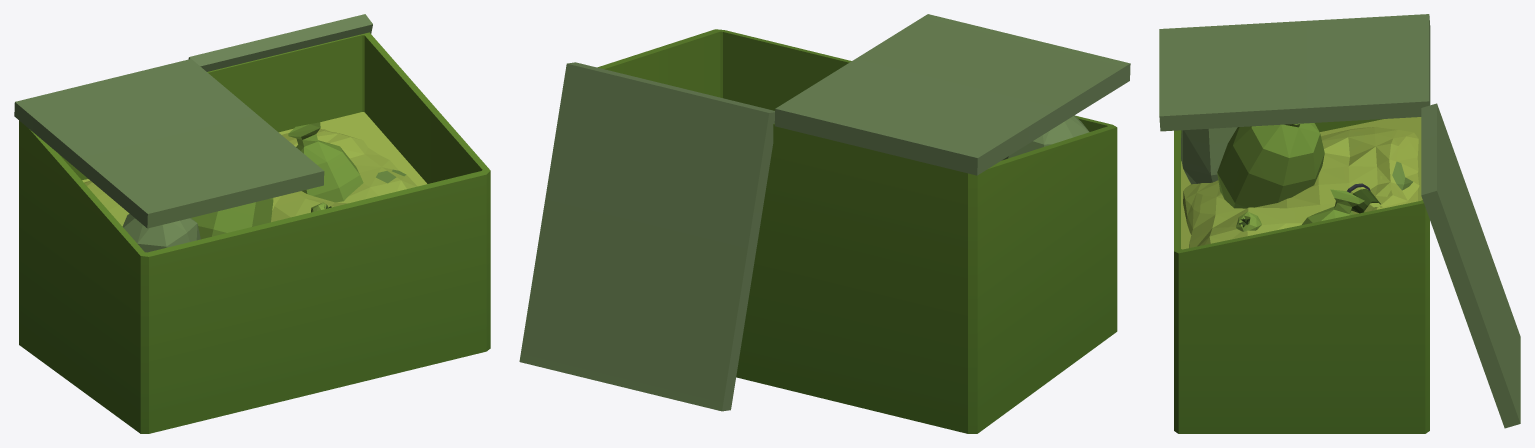
File: Trash_01.fbx
3 renders of one model, left to right at view 1: azimuth 30°, elevation 25°; view 2: azimuth 150°, elevation 25°; view 3: azimuth 270°, elevation 25°, orthographic. The views are drawn at different scales.
Visible parts, largest first — view 1: Trash_01; view 2: Trash_01; view 3: Trash_01.
Part boxes in pixels (<box>): Trash_01: <box>14,14,490,433</box>; Trash_01: <box>519,14,1130,433</box>; Trash_01: <box>1159,14,1520,433</box>.
Size of the model in its own units: 1.62 by 1.06 by 1.41.
